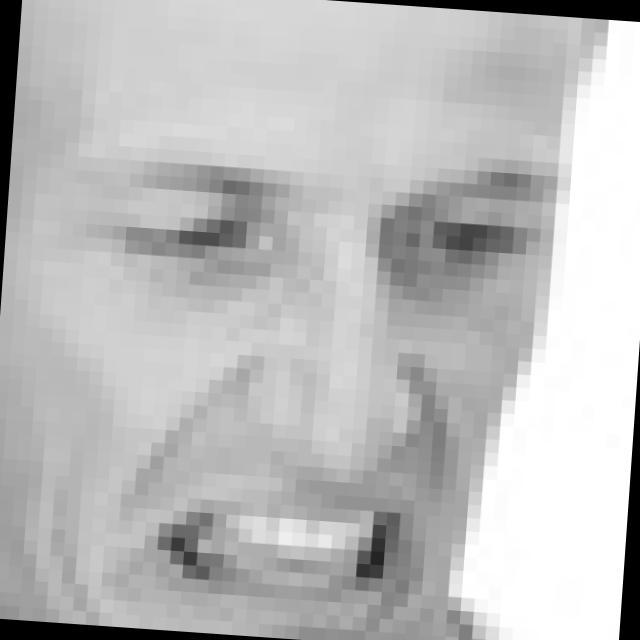disgust: (79, 137, 582, 640)
